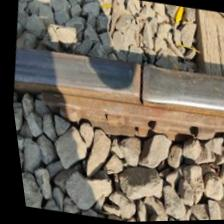person: (107, 55, 171, 114), (122, 123, 144, 143)
